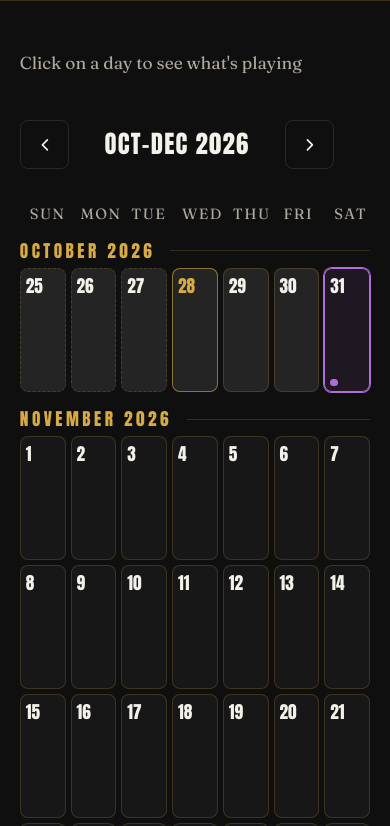
Test case: MonthCalendar with history › stops at the current month when the caller loads no history
The image size is (390, 826).
Click the button named "Go to ".
click(45, 145)  # box [20,120,69,169]
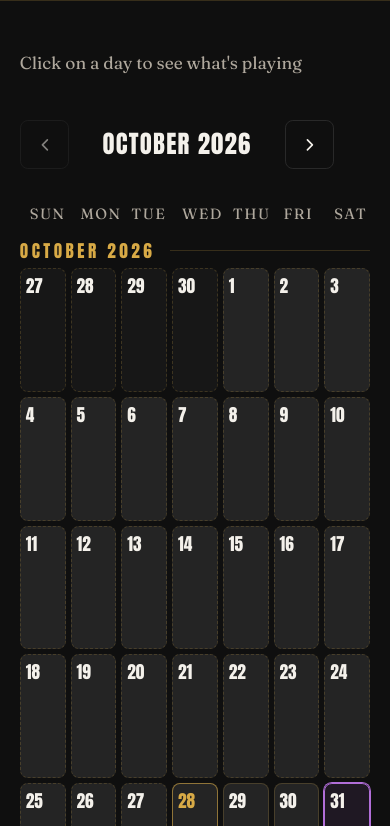
Expected: the button named "Go to " is disabled, [20,120,69,169]
